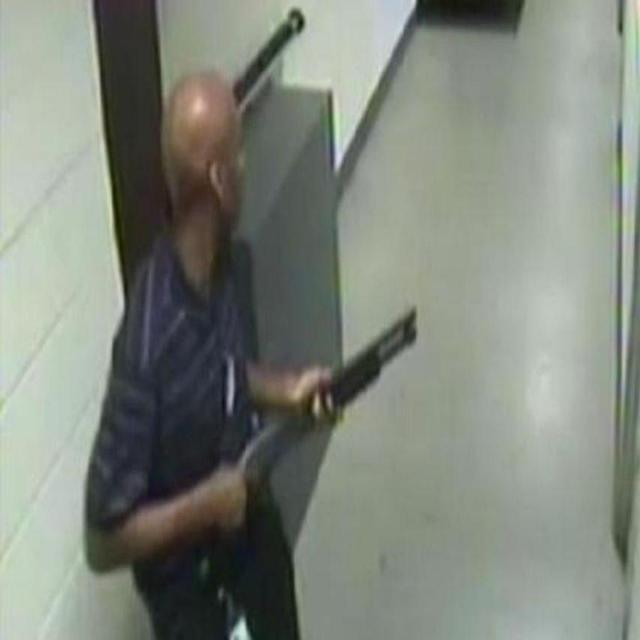gun: (206, 319, 418, 583)
